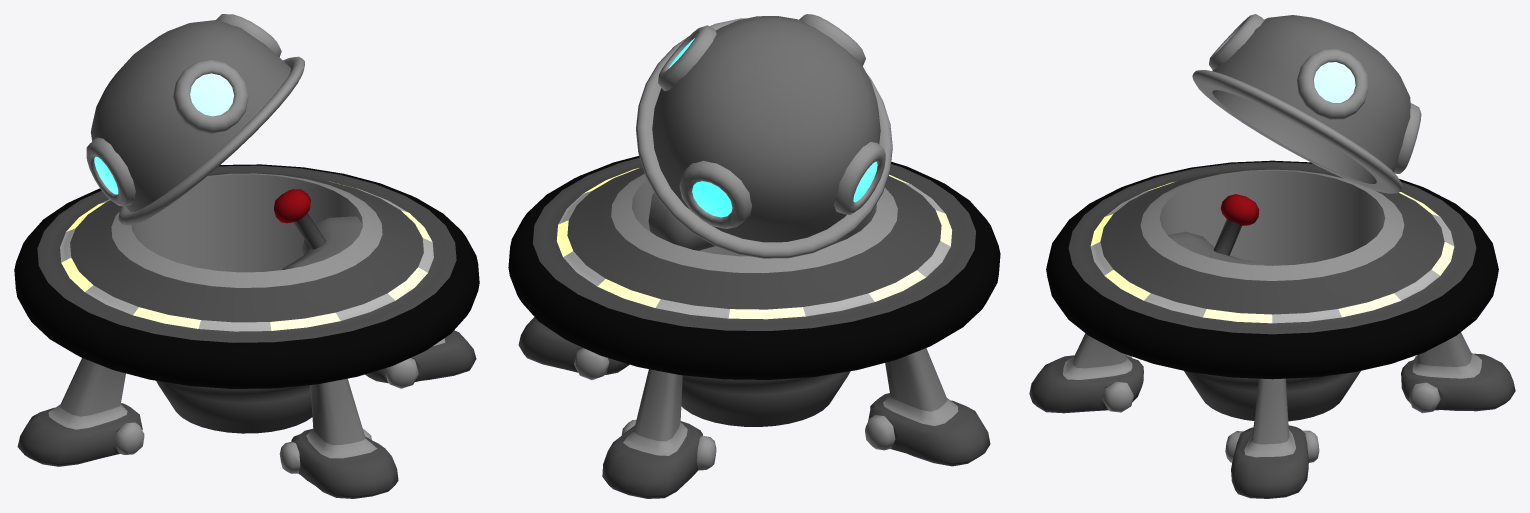
The model's file is mesh_Spaceship_Trap_Bumper_B.fbx.
3 views of the same model, side by side, from view 1: azimuth 30°, elevation 25°; view 2: azimuth 150°, elevation 25°; view 3: azimuth 270°, elevation 25° (orthographic). The views are drawn at different scales.
Visible parts, largest first — view 1: mesh_Spaceship_Trap_Bumper_B; view 2: mesh_Spaceship_Trap_Bumper_B; view 3: mesh_Spaceship_Trap_Bumper_B.
Boxes of the visible parts, x1,y1,x2,y2 form: mesh_Spaceship_Trap_Bumper_B: [14, 14, 479, 498]; mesh_Spaceship_Trap_Bumper_B: [508, 14, 1000, 498]; mesh_Spaceship_Trap_Bumper_B: [1029, 14, 1515, 498].
Bounding box in the file's own units: 3.11 × 2.52 × 3.07.
